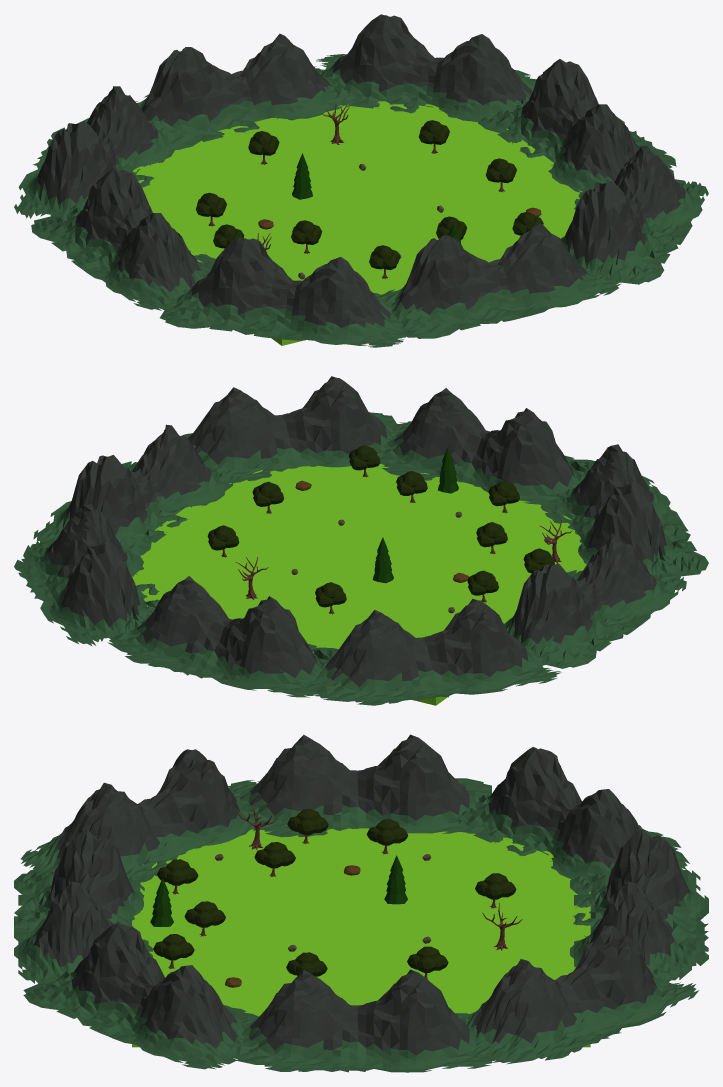
Rendered from Stage1.fbx.
3 renders of one model, top to bottom at view 1: azimuth 30°, elevation 25°; view 2: azimuth 150°, elevation 25°; view 3: azimuth 270°, elevation 25°, orthographic. The views are drawn at different scales.
Parts seen in each view (by area): view 1: Cube, mountain__5_, mountain, mountain__4_, mountain__1_, mountain__2_, mountain__7_, mountain__3_, mountain__6_, oakTree__2_, oakTree__6_, oakTree__7_ (+4 smaller); view 2: Cube, mountain__6_, mountain__1_, mountain__2_, mountain__7_, mountain, mountain__4_, mountain__3_, mountain__5_, oakTree__7_, oakTree__1_, oakTree__2_ (+8 smaller); view 3: Cube, mountain__3_, mountain__7_, mountain__4_, mountain__2_, mountain__6_, mountain__5_, mountain__1_, mountain, oakTree__2_, oakTree__3_, oakTree__1_ (+8 smaller).
Boxes of the visible parts, box(x1,y1,x2,y2) form: Cube: box(133, 101, 582, 345); mountain__5_: box(160, 237, 406, 347); mountain: box(375, 222, 621, 338); mountain__4_: box(316, 14, 536, 121); mountain__1_: box(135, 33, 356, 149); mountain__2_: box(31, 167, 215, 310); mountain__7_: box(561, 146, 708, 284); mountain__3_: box(478, 59, 676, 192); mountain__6_: box(14, 86, 174, 218); oakTree__2_: box(195, 192, 226, 226); oakTree__6_: box(248, 131, 279, 164); oakTree__7_: box(486, 158, 516, 192); Cube: box(132, 464, 586, 705); mountain__6_: box(306, 598, 561, 705); mountain__1_: box(107, 576, 338, 697); mountain__2_: box(504, 533, 686, 668); mountain__7_: box(181, 376, 402, 482); mountain: box(379, 388, 595, 506); mountain__4_: box(14, 504, 159, 646); mountain__3_: box(33, 424, 237, 555); mountain__5_: box(540, 444, 708, 578); oakTree__7_: box(252, 481, 284, 513); oakTree__1_: box(476, 522, 507, 553); oakTree__2_: box(467, 570, 498, 602); Cube: box(132, 828, 590, 1047); mountain__3_: box(232, 969, 492, 1072); mountain__7_: box(23, 923, 258, 1069); mountain__4_: box(467, 925, 698, 1064); mountain__2_: box(228, 734, 491, 837); mountain__6_: box(452, 747, 689, 884); mountain__5_: box(21, 749, 255, 882); mountain__1_: box(570, 829, 708, 982); mountain: box(14, 829, 152, 983); oakTree__2_: box(366, 819, 408, 854); oakTree__3_: box(184, 901, 225, 936); oakTree__1_: box(254, 842, 295, 876).
Size of the model in its own units: 25003 by 3907 by 25003.
